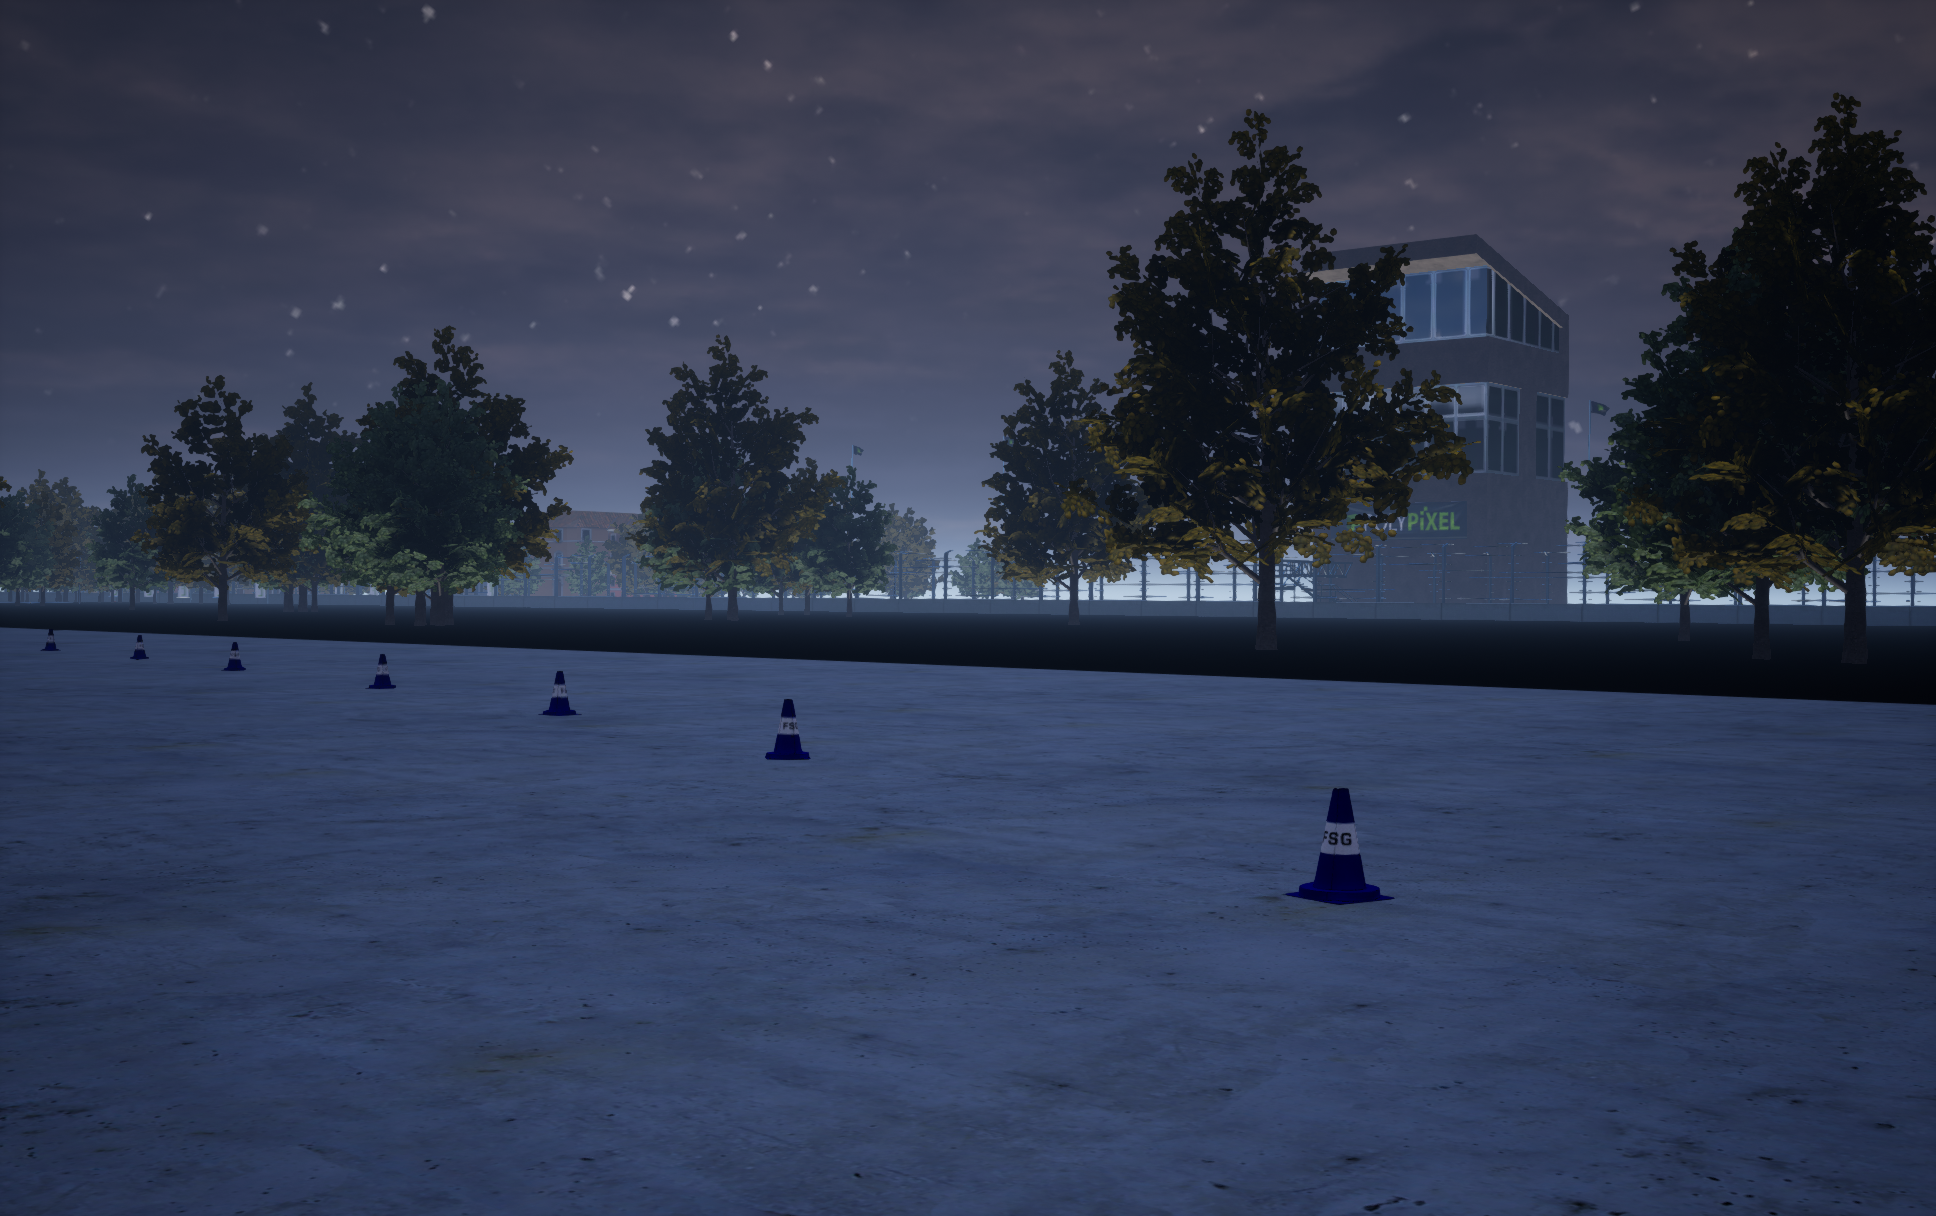yellow: (1285, 787, 1394, 904), (765, 699, 810, 759), (538, 671, 581, 714), (366, 654, 395, 688), (221, 642, 245, 670), (130, 635, 148, 658), (41, 629, 60, 650)
